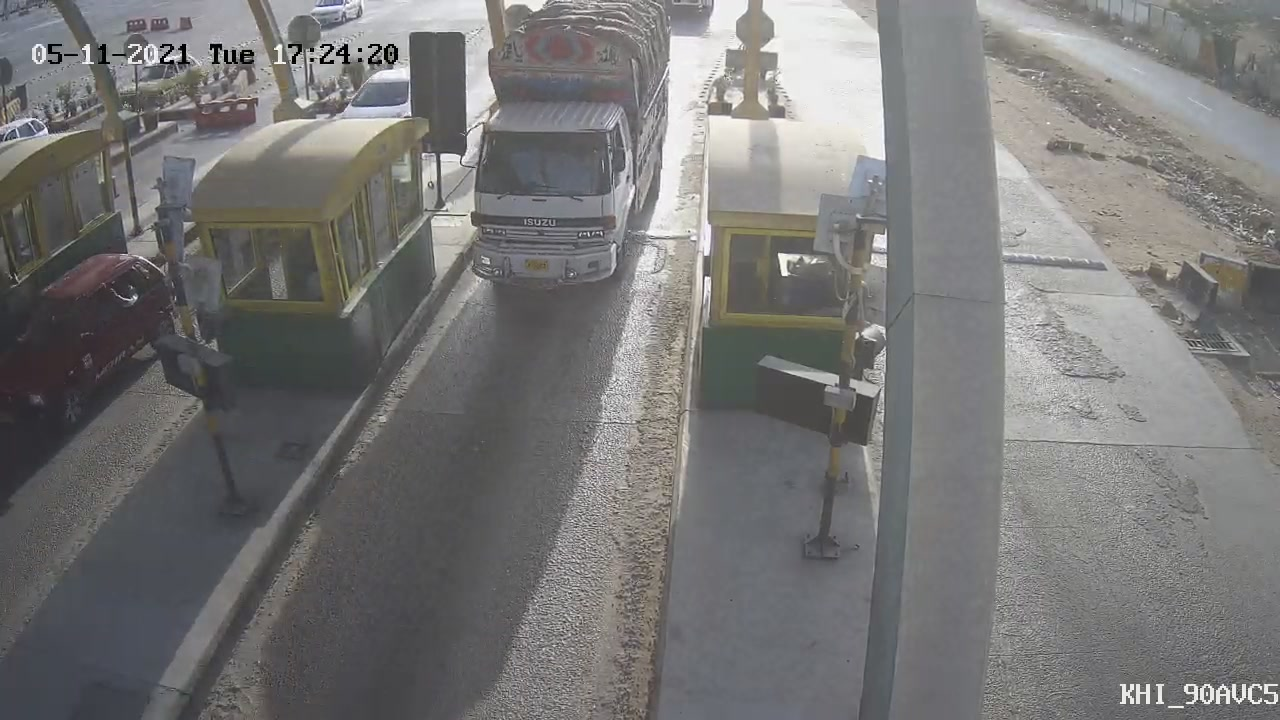F5: (439, 4, 701, 326)
